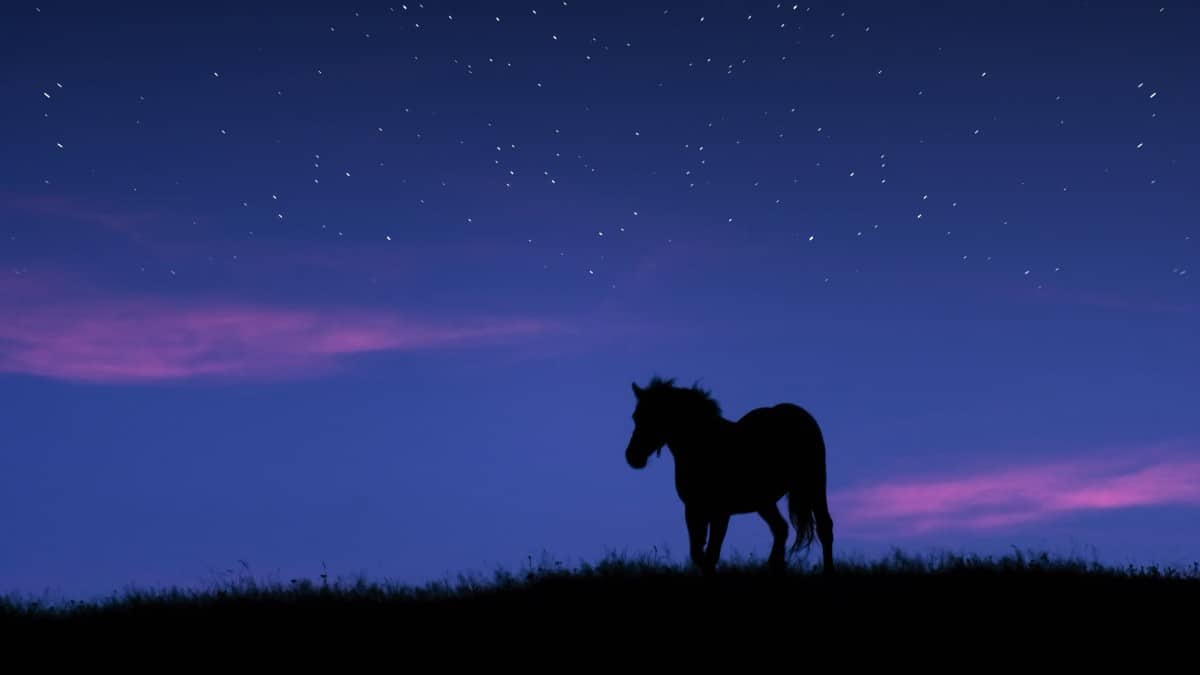Horse: (599, 368, 875, 590)
